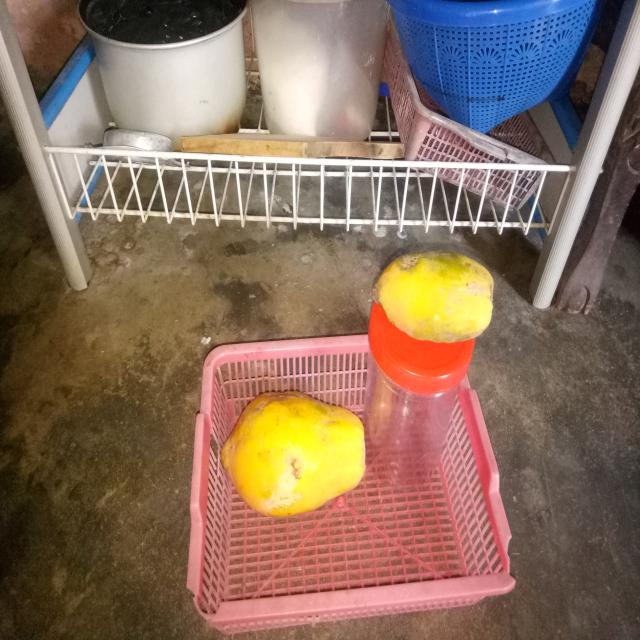Pepaya rippen: (219, 392, 378, 518), (372, 236, 501, 342)
